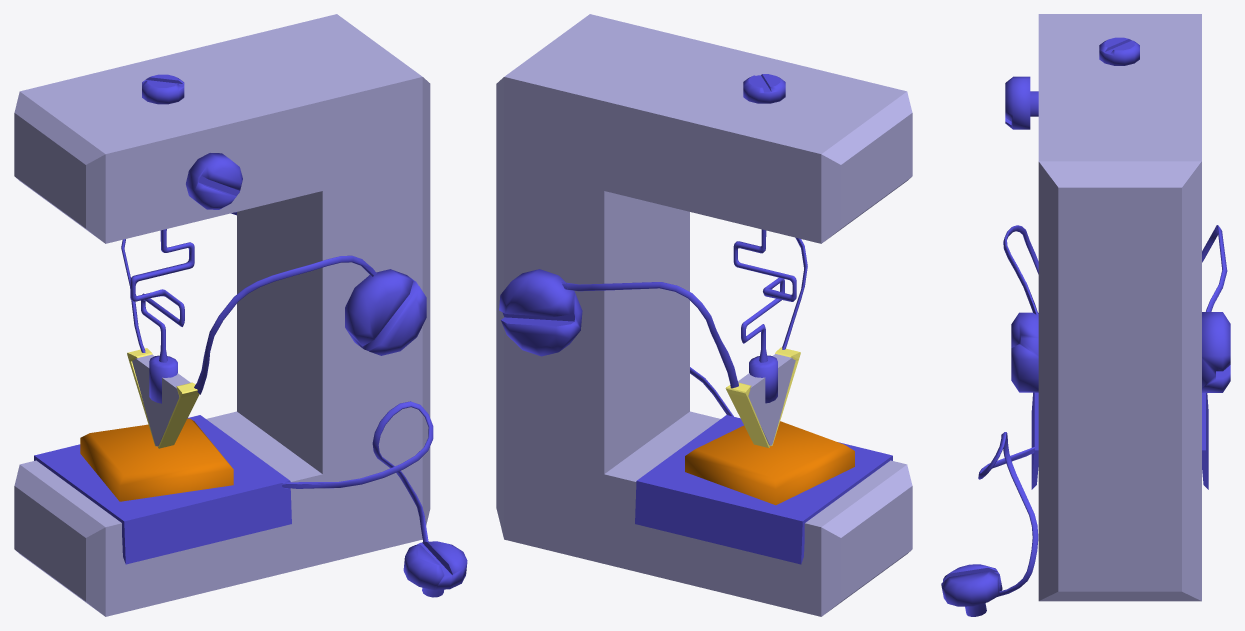
Rendered from 1947_first_transistor.fbx.
3 renders of one model, left to right at view 1: azimuth 30°, elevation 25°; view 2: azimuth 150°, elevation 25°; view 3: azimuth 270°, elevation 25°, orthographic. The views are drawn at different scales.
Parts seen in each view (by area): view 1: 1947_first_transistor; view 2: 1947_first_transistor; view 3: 1947_first_transistor.
Boxes of the visible parts, x1,y1,x2,y2 form: 1947_first_transistor: [14, 14, 467, 616]; 1947_first_transistor: [496, 14, 912, 616]; 1947_first_transistor: [941, 14, 1230, 616].
Bounding box in the file's own units: 327 × 454 × 248.
